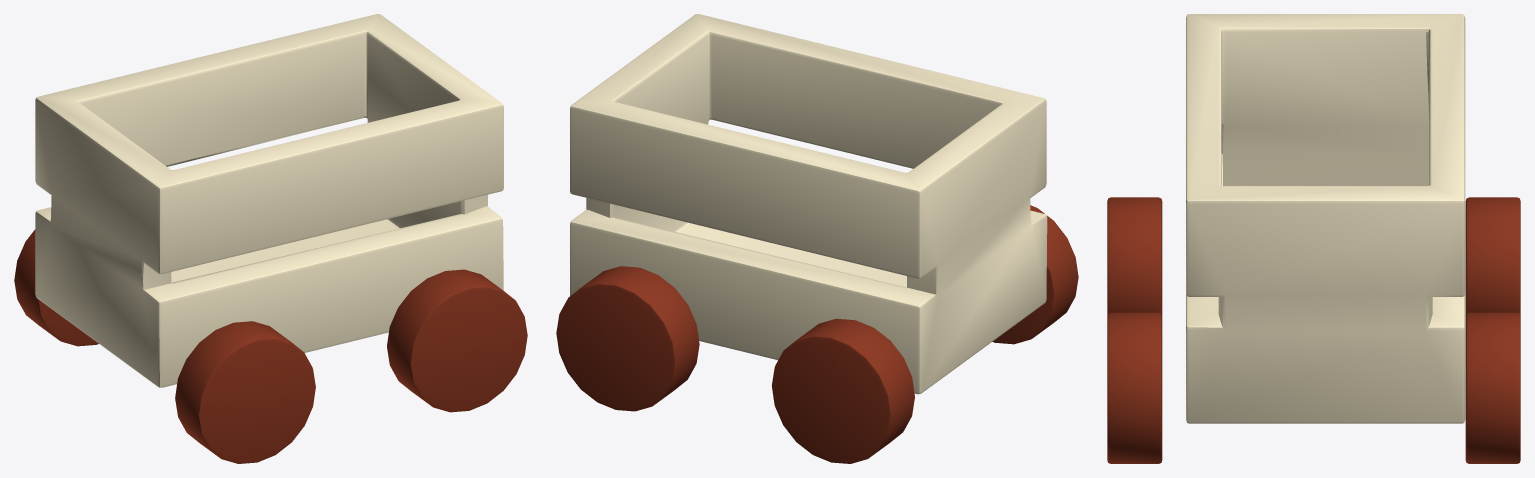
The model's file is SM_Train_Cart.fbx.
3 renders of one model, left to right at view 1: azimuth 30°, elevation 25°; view 2: azimuth 150°, elevation 25°; view 3: azimuth 270°, elevation 25°, orthographic. The views are drawn at different scales.
Visible parts, largest first — view 1: SM_Train_Cart; view 2: SM_Train_Cart; view 3: SM_Train_Cart.
Boxes of the visible parts, box(x1,y1,x2,y2) form: SM_Train_Cart: box(14, 14, 527, 463); SM_Train_Cart: box(556, 14, 1078, 463); SM_Train_Cart: box(1107, 14, 1520, 463).
Bounding box in the file's own units: 460 × 427 × 336.
